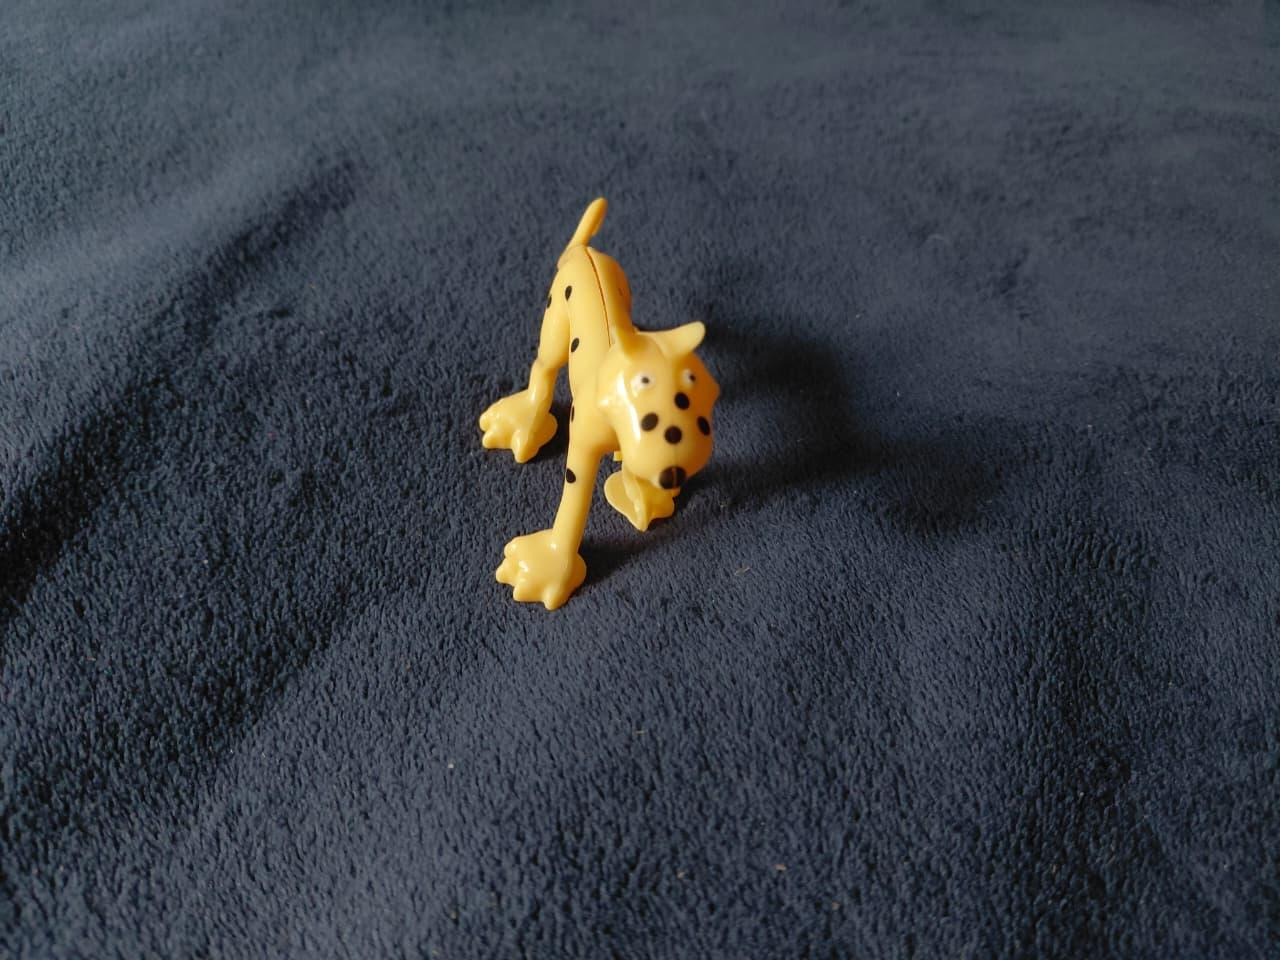cheetah: (464, 185, 728, 612)
